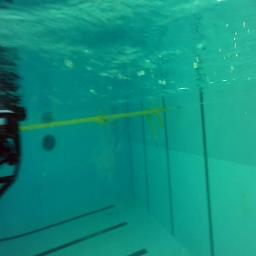Side: (0, 108, 23, 200)
